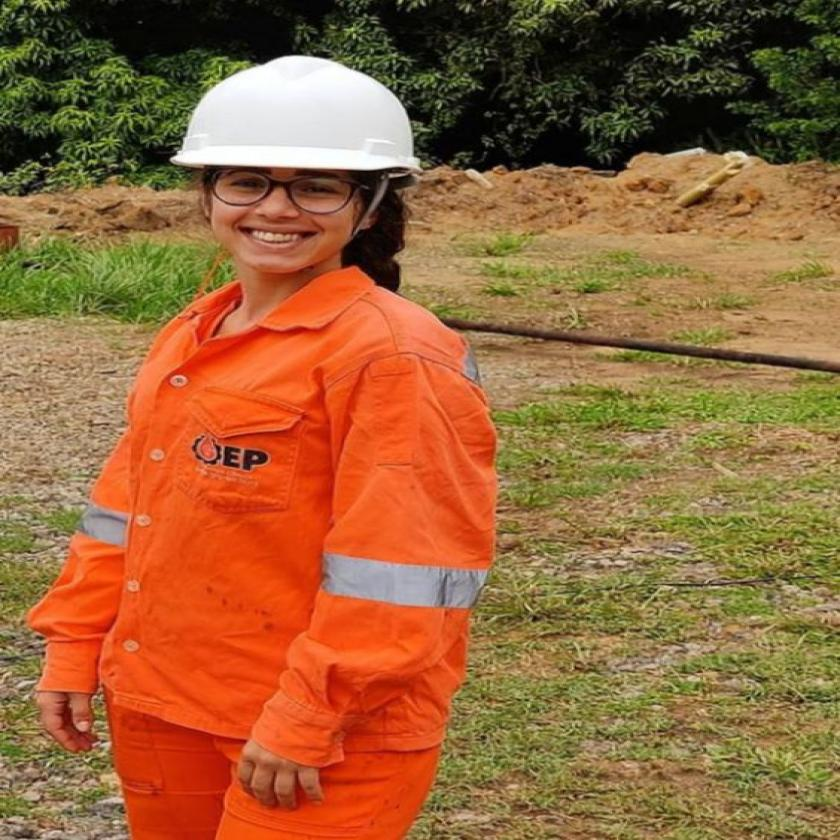Con_casco: (153, 28, 448, 310)
